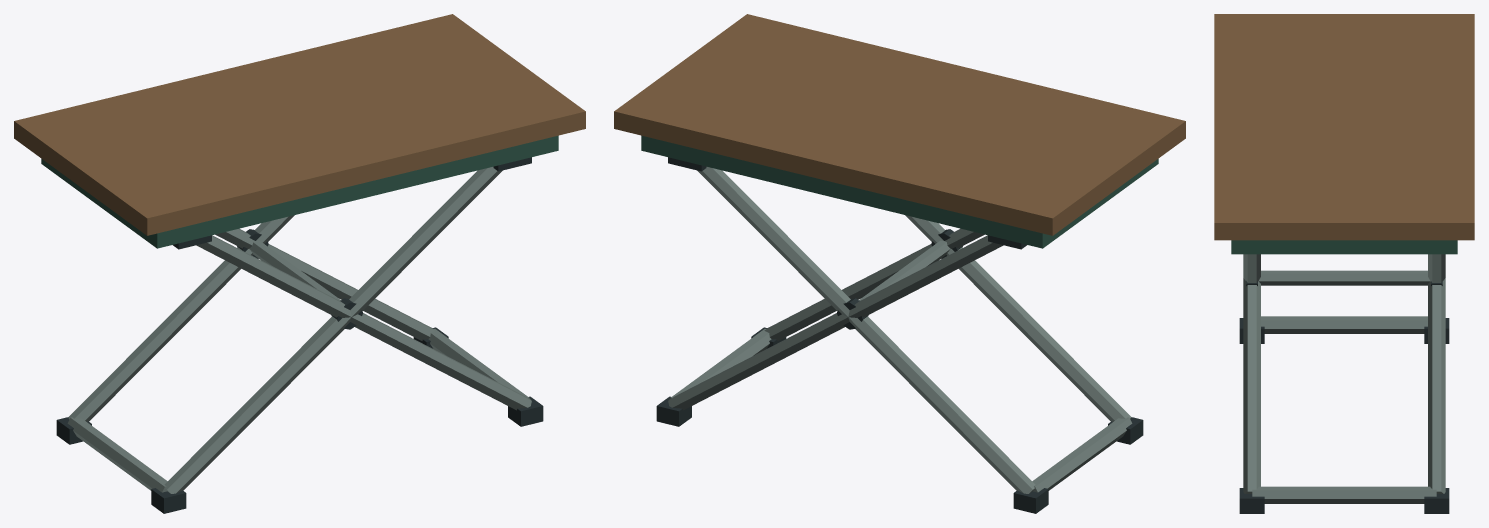
The picture shows the model from 3 angles, left to right: view 1: azimuth 30°, elevation 25°; view 2: azimuth 150°, elevation 25°; view 3: azimuth 270°, elevation 25°; orthographic projection. The views are drawn at different scales.
Visible parts, largest first — view 1: a51; view 2: a51; view 3: a51.
Part boxes in pixels (x1,y1,x2,y2): a51: (14,14,585,513); a51: (614,14,1185,513); a51: (1214,14,1474,513).
Bounding box in the file's own units: 1.18 × 0.8025 × 0.62.
